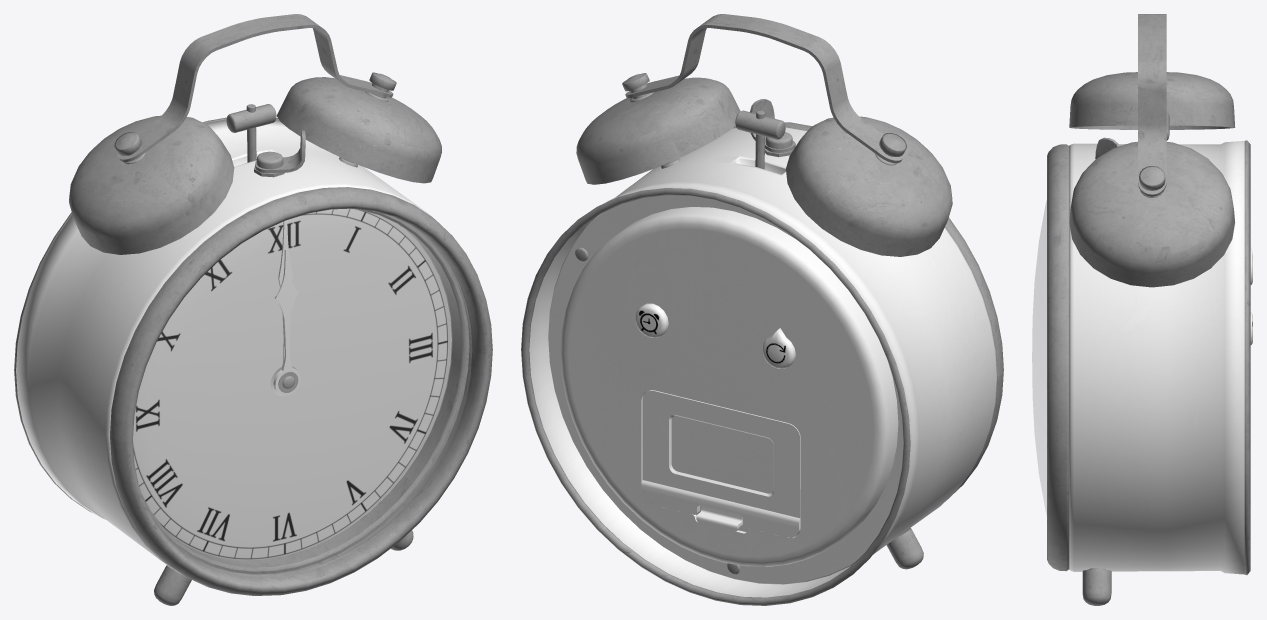
The model's file is AlarmClock.glb.
The picture shows the model from 3 angles, left to right: view 1: azimuth 30°, elevation 25°; view 2: azimuth 150°, elevation 25°; view 3: azimuth 270°, elevation 25°; orthographic projection. The views are drawn at different scales.
Parts seen in each view (by area): view 1: glass, face, body, ring_front, bells, hour_hand, gavel, legs, ring_back; view 2: back, body, bells, ring_back, ring_front, gavel, legs, sveglia_prog, sveglia_on_off; view 3: body, bells, ring_front, glass, ring_back, legs.
Part boxes in pixels (x1=…): glass: x1=133, y1=209, x2=471, y2=575; face: x1=133, y1=208, x2=451, y2=560; body: x1=16, y1=119, x2=452, y2=573; ring_front: x1=110, y1=187, x2=492, y2=595; bells: x1=69, y1=14, x2=441, y2=254; hour_hand: x1=274, y1=249, x2=300, y2=395; gavel: x1=226, y1=104, x2=276, y2=162; legs: x1=154, y1=530, x2=413, y2=605; ring_back: x1=14, y1=117, x2=278, y2=513; back: x1=548, y1=195, x2=903, y2=584; body: x1=529, y1=127, x2=996, y2=597; bells: x1=576, y1=14, x2=952, y2=256; ring_back: x1=521, y1=188, x2=910, y2=605; ring_front: x1=732, y1=122, x2=1003, y2=498; gavel: x1=735, y1=110, x2=785, y2=169; legs: x1=886, y1=528, x2=923, y2=569; sveglia_prog: x1=762, y1=328, x2=795, y2=368; sveglia_on_off: x1=635, y1=303, x2=668, y2=337; body: x1=1069, y1=141, x2=1244, y2=574; bells: x1=1069, y1=14, x2=1235, y2=287; ring_front: x1=1047, y1=144, x2=1069, y2=571; glass: x1=1032, y1=200, x2=1046, y2=514; ring_back: x1=1244, y1=140, x2=1250, y2=574; legs: x1=1082, y1=568, x2=1111, y2=605.
Size of the model in its own units: 8.02 by 10.6 by 4.06.
11 materials, 10 textured.
